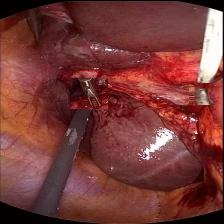Grasper: (70, 77, 108, 108)
Irrigator: (189, 82, 215, 104)
